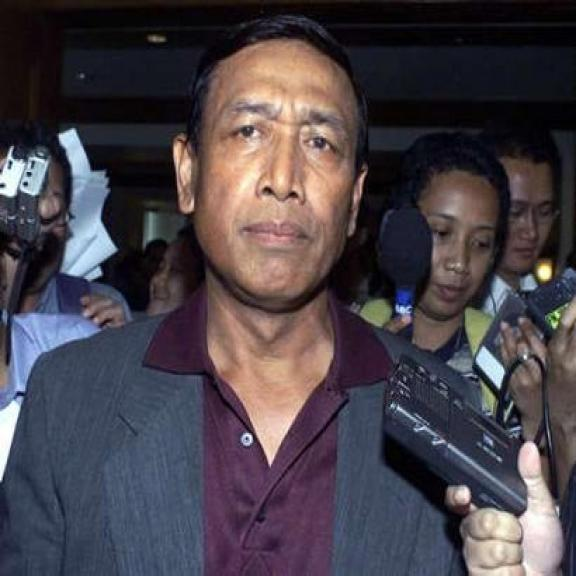face: (174, 41, 368, 314), (416, 162, 499, 324), (498, 149, 558, 279)
